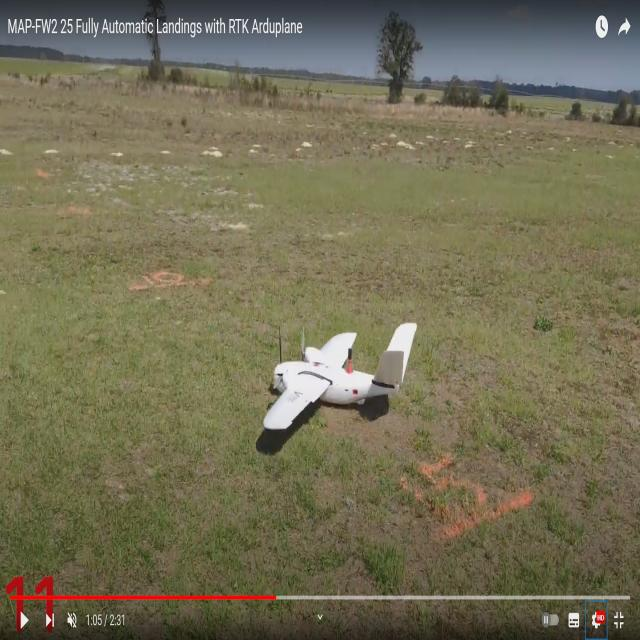iha: (255, 323, 417, 454)
